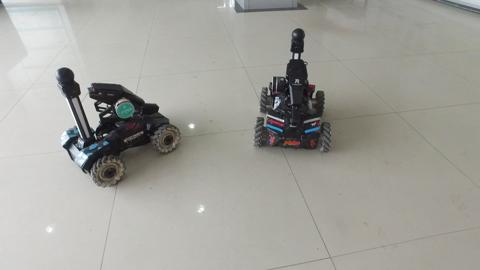chariot: (46, 64, 182, 188), (241, 22, 336, 156)
